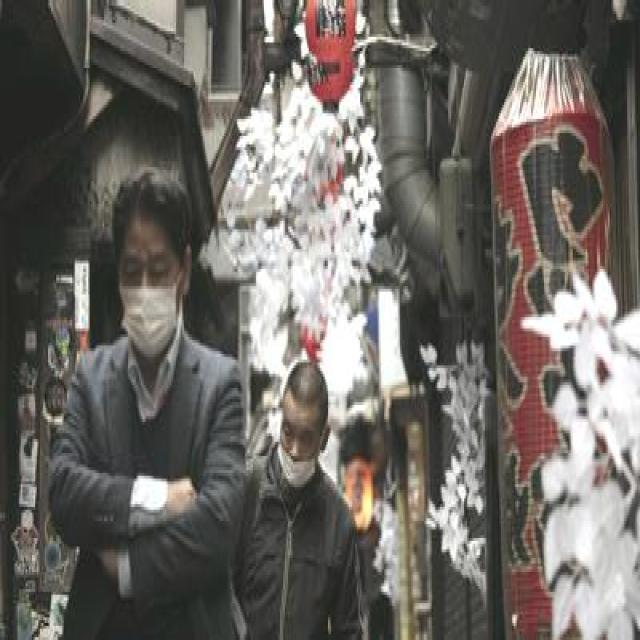hairnet: (277, 365, 328, 490)
